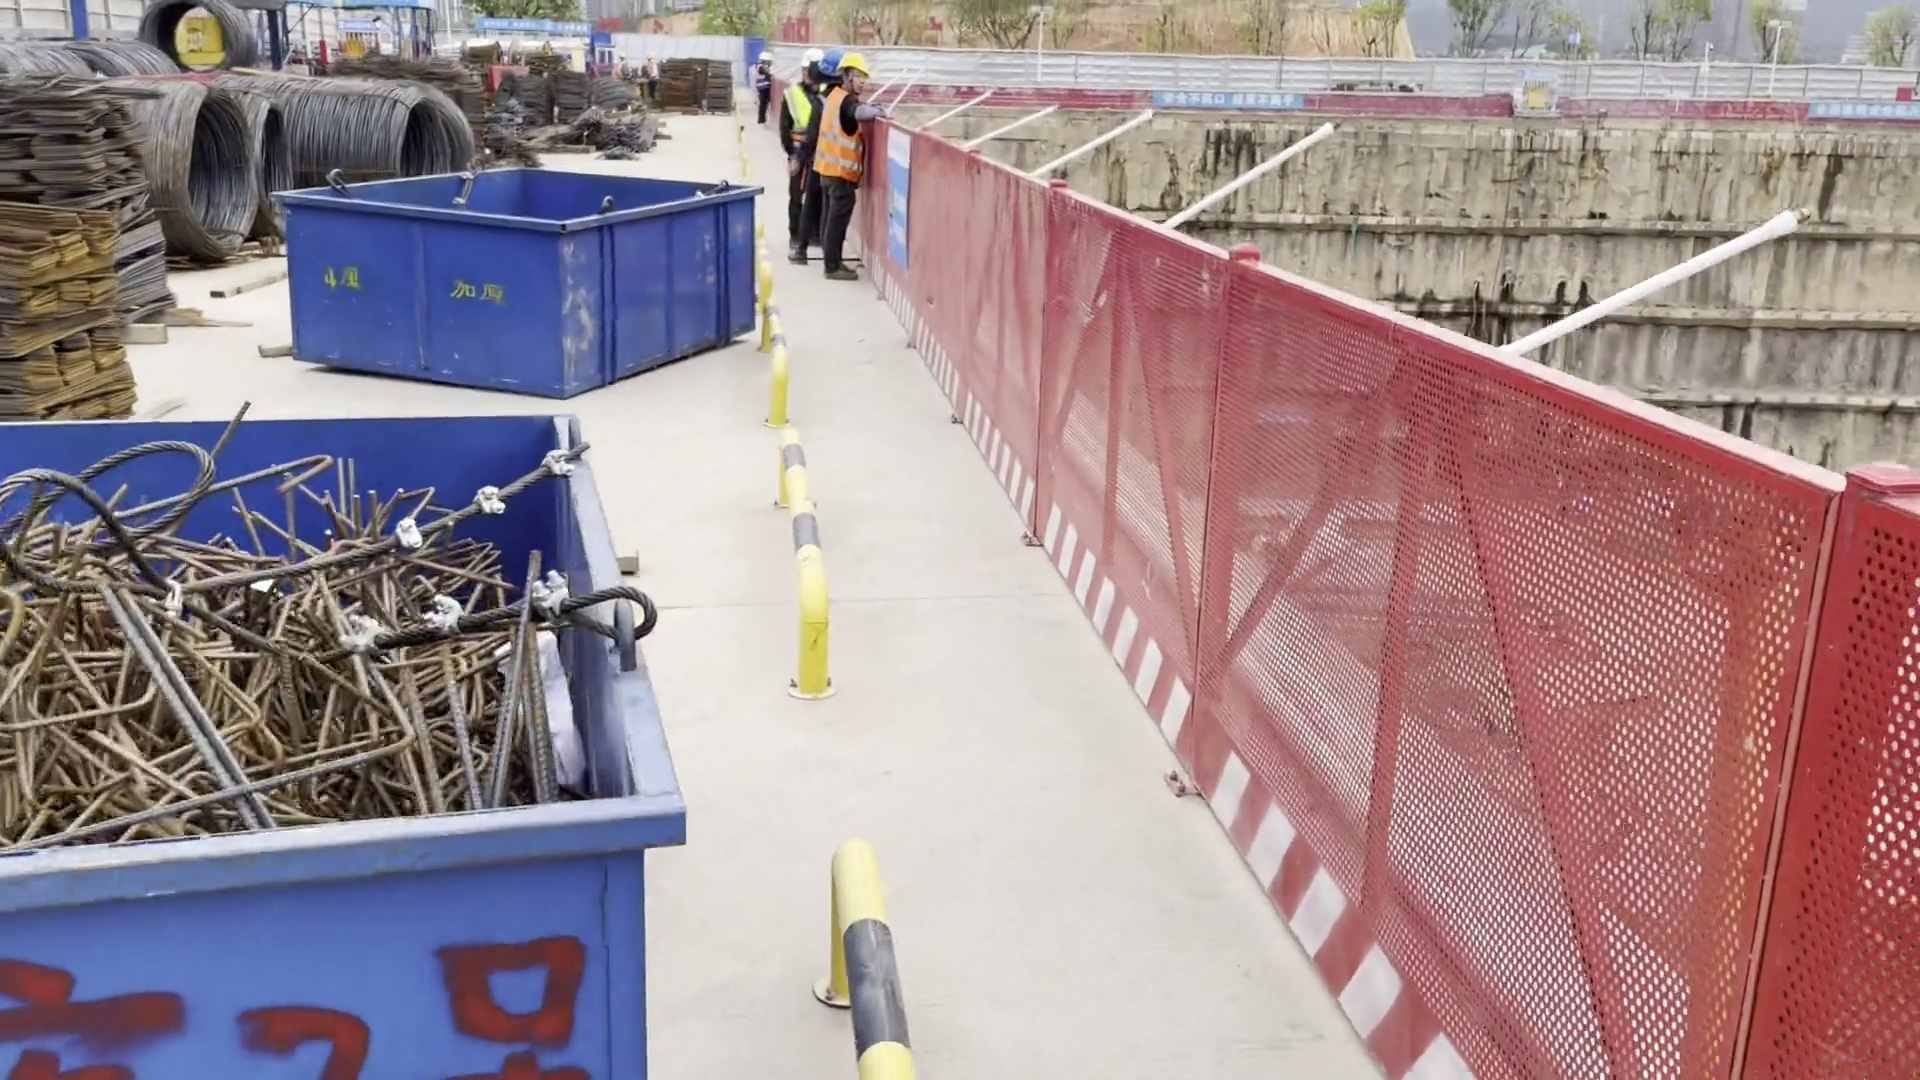fence: (789, 86, 1920, 1066), (884, 90, 1920, 124)
helmet: (836, 51, 866, 74), (802, 48, 825, 69), (820, 51, 842, 73), (759, 51, 772, 61), (646, 54, 655, 61), (618, 53, 625, 60)
hopper: (8, 385, 701, 1080), (265, 163, 770, 400)
person: (805, 50, 883, 280), (770, 43, 827, 265), (748, 49, 775, 123), (605, 52, 637, 84), (642, 51, 663, 97)
slogan: (1150, 86, 1329, 117), (1817, 100, 1920, 129)
vest: (815, 96, 872, 180), (785, 86, 828, 154), (754, 65, 768, 92), (646, 62, 661, 83)
